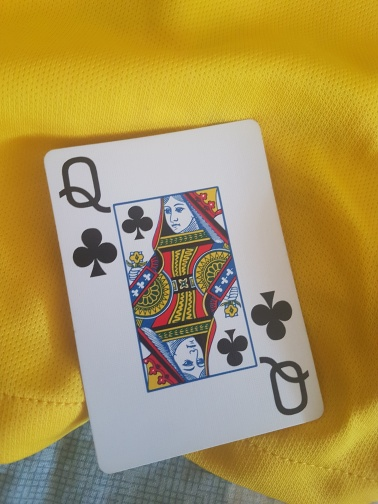queen: (45, 120, 324, 472)
